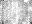person: (24, 1, 28, 3)
